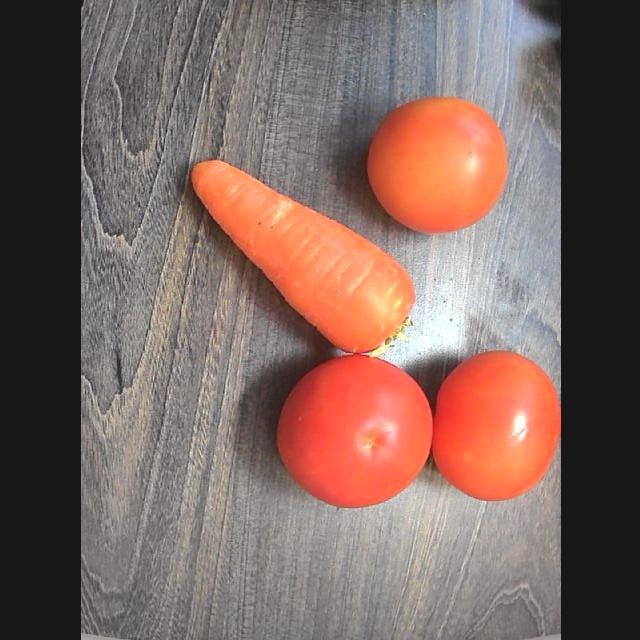tomate: (277, 356, 432, 507), (432, 351, 560, 501), (367, 98, 506, 234)
zanahoria: (191, 161, 414, 357)
